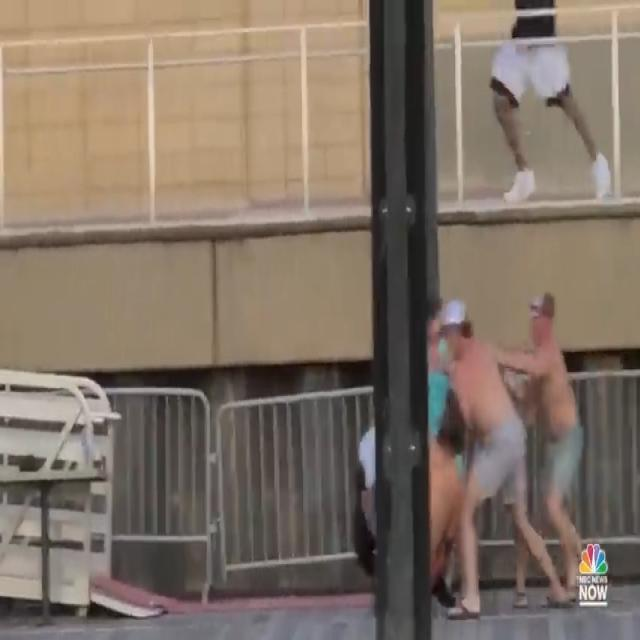fight: (416, 261, 593, 615)
